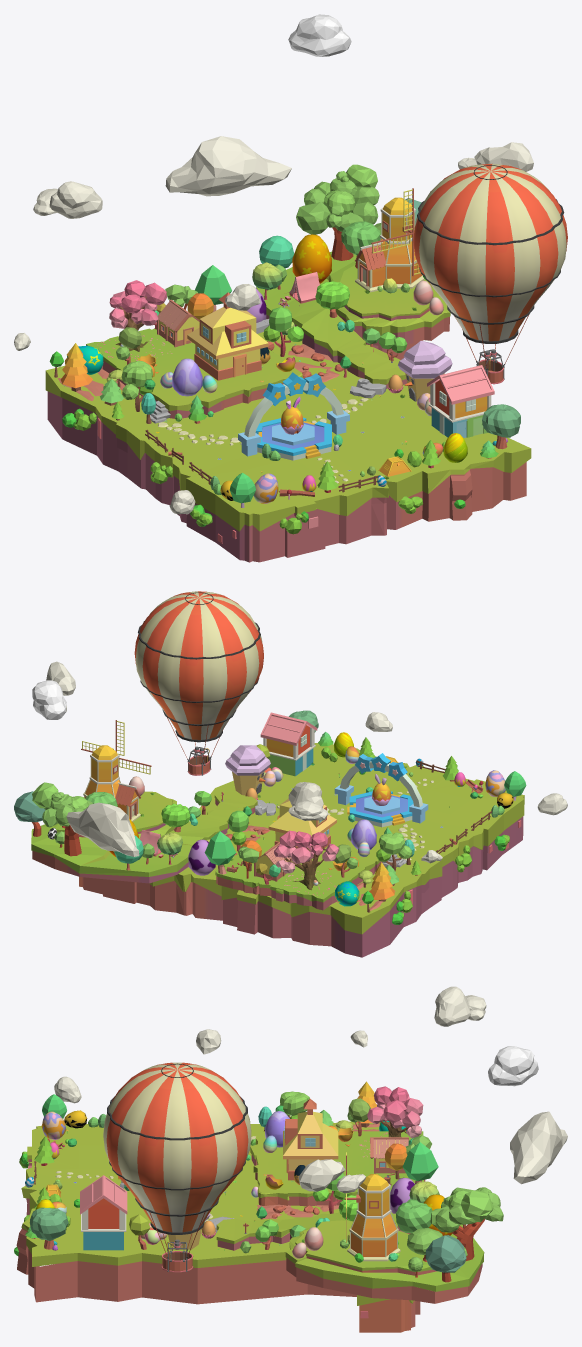
The model's file is dao.FBX.
The picture shows the model from 3 angles, top to bottom: view 1: azimuth 30°, elevation 25°; view 2: azimuth 150°, elevation 25°; view 3: azimuth 270°, elevation 25°; orthographic projection. The views are drawn at different scales.
Visible parts, largest first — view 1: di, Hot_air_balloon, cloud05, Tree_19, Big_house, the_windmill, Arched_column, Two_story_house, Cherry_blossom_tree, caotuancong, cloud07, Ice_Cream_House (+20 smaller); view 2: di, Hot_air_balloon, Arched_column, the_windmill, Two_story_house, cloud05, Cherry_blossom_tree, Tree_19, Tree_15 (×2), Ice_Cream_House, Big_house, cloud07 (+17 smaller); view 3: di, Hot_air_balloon, the_windmill, Two_story_house, Tree_19, Big_house, cloud05, Cherry_blossom_tree, Tree_15 (×2), cloud07, cloud03, Tree_10 (+17 smaller).
Boxes of the visible parts, x1,y1,x2,y2 form: di: (45, 251, 531, 562); Hot_air_balloon: (413, 163, 567, 384); cloud05: (165, 136, 291, 196); Tree_19: (296, 164, 379, 260); Big_house: (187, 292, 268, 380); the_windmill: (355, 188, 424, 292); Arched_column: (238, 382, 349, 460); Two_story_house: (427, 365, 494, 437); Cherry_blossom_tree: (109, 280, 166, 351); caotuancong: (62, 408, 465, 534); cloud07: (288, 14, 351, 56); Ice_Cream_House: (398, 340, 452, 401); di: (31, 743, 524, 957); Hot_air_balloon: (134, 591, 263, 775); Arched_column: (334, 761, 428, 827); the_windmill: (81, 720, 151, 821); Two_story_house: (260, 712, 317, 776); cloud05: (66, 802, 139, 856); Cherry_blossom_tree: (274, 830, 338, 890); Tree_19: (32, 782, 92, 856); Tree_15 (×2): (14, 791, 412, 871); Ice_Cream_House: (225, 745, 270, 795); Big_house: (268, 798, 336, 848); cloud07: (32, 680, 66, 719); di: (16, 1121, 484, 1332); Hot_air_balloon: (103, 1062, 251, 1272); the_windmill: (345, 1152, 400, 1261); Two_story_house: (80, 1175, 127, 1250); Tree_19: (430, 1187, 503, 1260); Big_house: (283, 1098, 338, 1180); cloud05: (510, 1111, 567, 1184); Cherry_blossom_tree: (367, 1086, 423, 1138); Tree_15 (×2): (275, 1091, 466, 1282); cloud07: (488, 1046, 538, 1086); cloud03: (434, 986, 470, 1026); Tree_10: (29, 1207, 68, 1249).
Bounding box in the file's own units: 5823 × 3234 × 5916.
28 materials, 27 textured.
